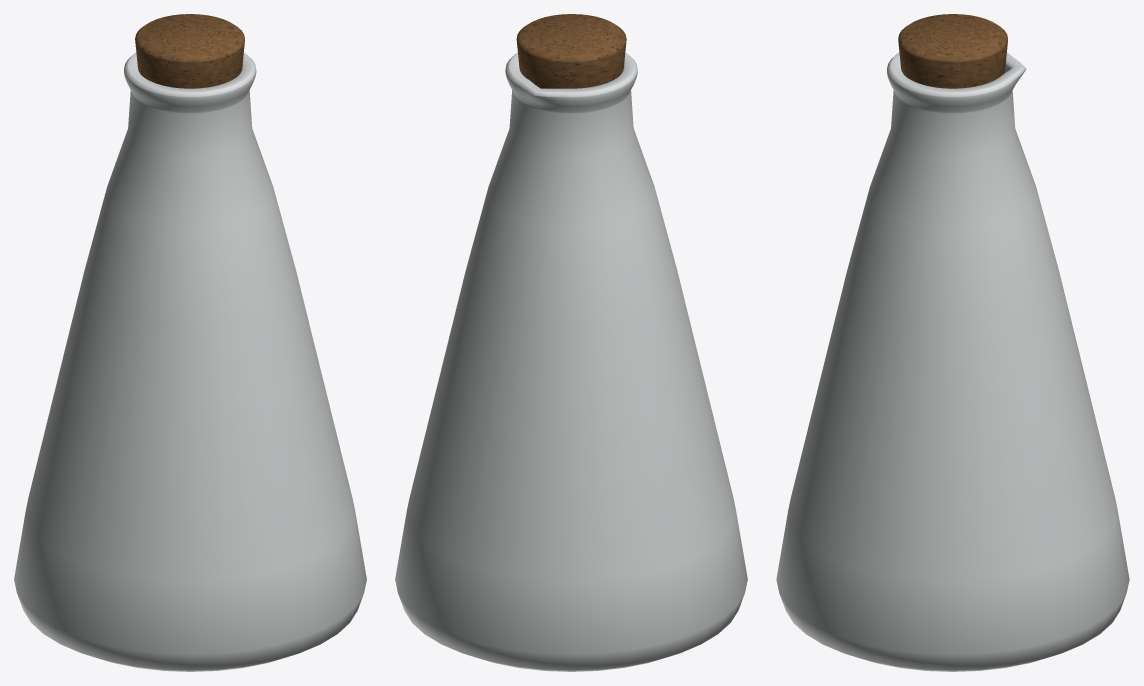
Rendered from bottle_erlenmeyer_lod1.glb.
3 renders of one model, left to right at view 1: azimuth 30°, elevation 25°; view 2: azimuth 150°, elevation 25°; view 3: azimuth 270°, elevation 25°, orthographic.
Visible parts, largest first — view 1: Glass, Cap; view 2: Glass, Cap; view 3: Glass, Cap.
Boxes of the visible parts, left/top/right/bottom form: Glass: left=14, top=52, right=366, bottom=671; Cap: left=135, top=14, right=244, bottom=88; Glass: left=395, top=52, right=747, bottom=671; Cap: left=516, top=14, right=626, bottom=88; Glass: left=776, top=52, right=1129, bottom=671; Cap: left=898, top=14, right=1007, bottom=88.
Size of the model in its own units: 0.1053 by 0.1884 by 0.1055.
3 materials, 1 textured.
